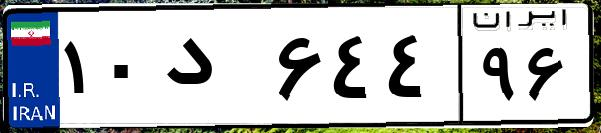0: (110, 28, 158, 98)
1: (57, 26, 110, 100)
4: (385, 28, 445, 110), (330, 28, 385, 110)
6: (270, 28, 330, 110), (525, 38, 570, 115)
9: (475, 38, 525, 113)
د: (158, 20, 270, 120)
